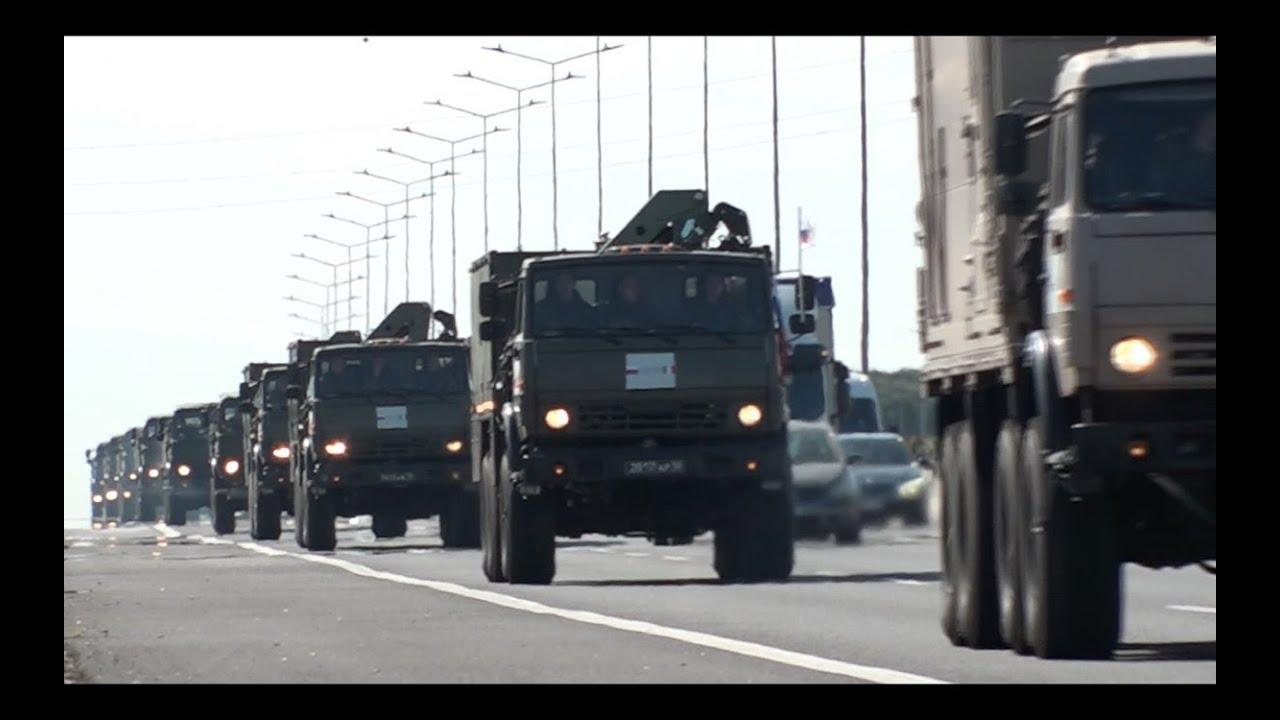truck: (462, 228, 809, 588), (291, 318, 482, 568), (231, 349, 298, 545)
